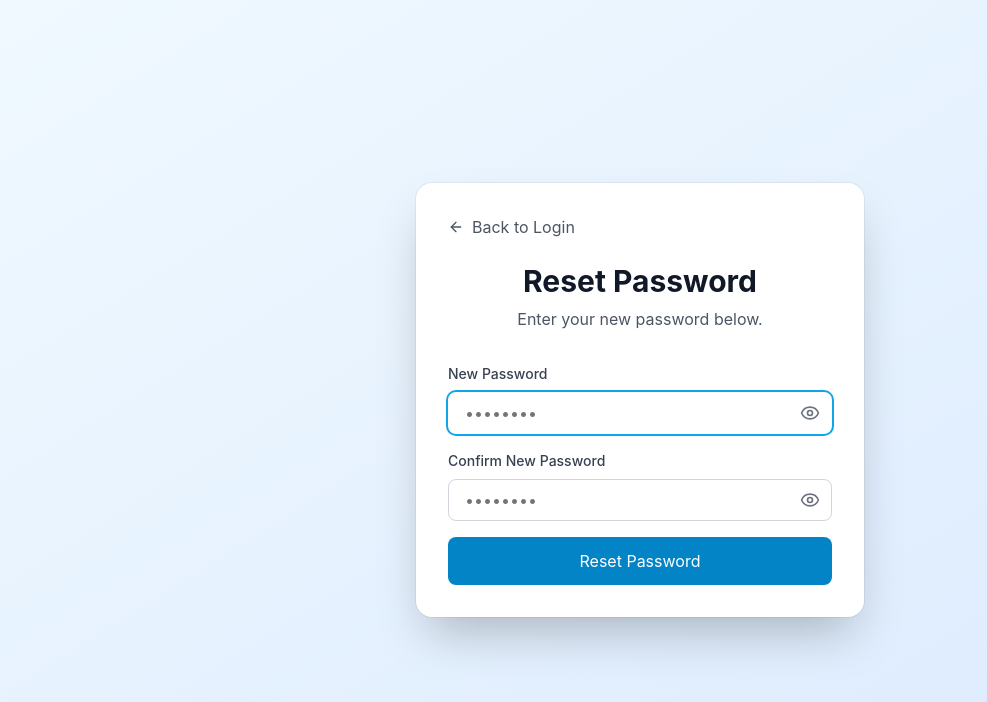
Test case: ResetPasswordPage › should handle API error
This screenshot has width=987, height=702.
Type "newpassword123" into the password field with placeholder "••••••••" at (640, 413), box [448, 392, 832, 434]
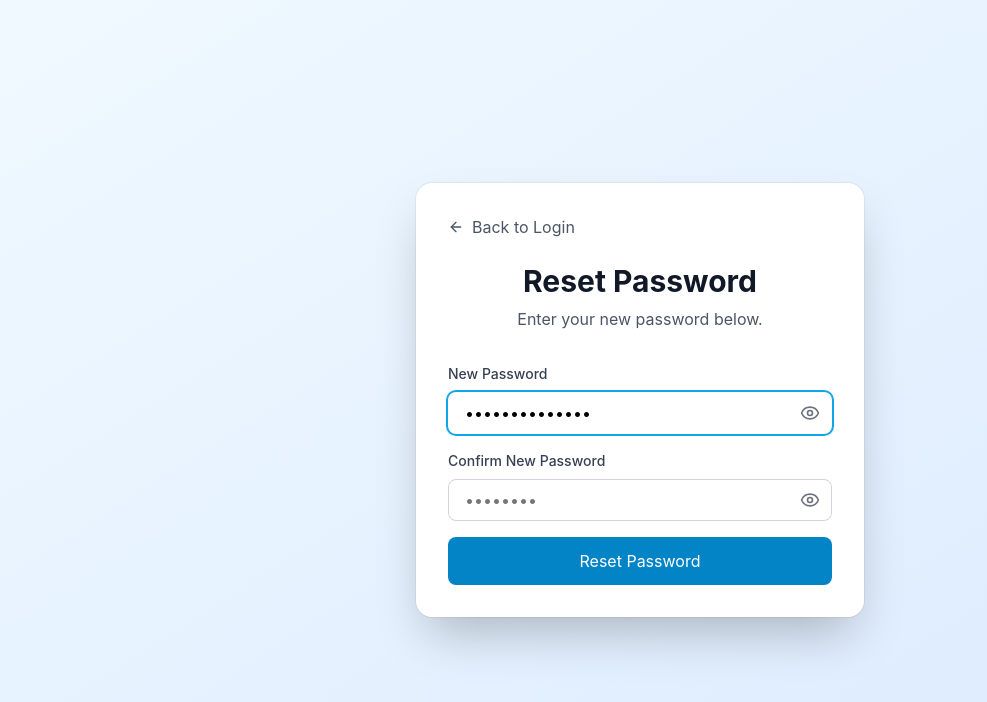
Type "newpassword123" into the password field with placeholder "••••••••" at (640, 500), box [448, 479, 832, 521]
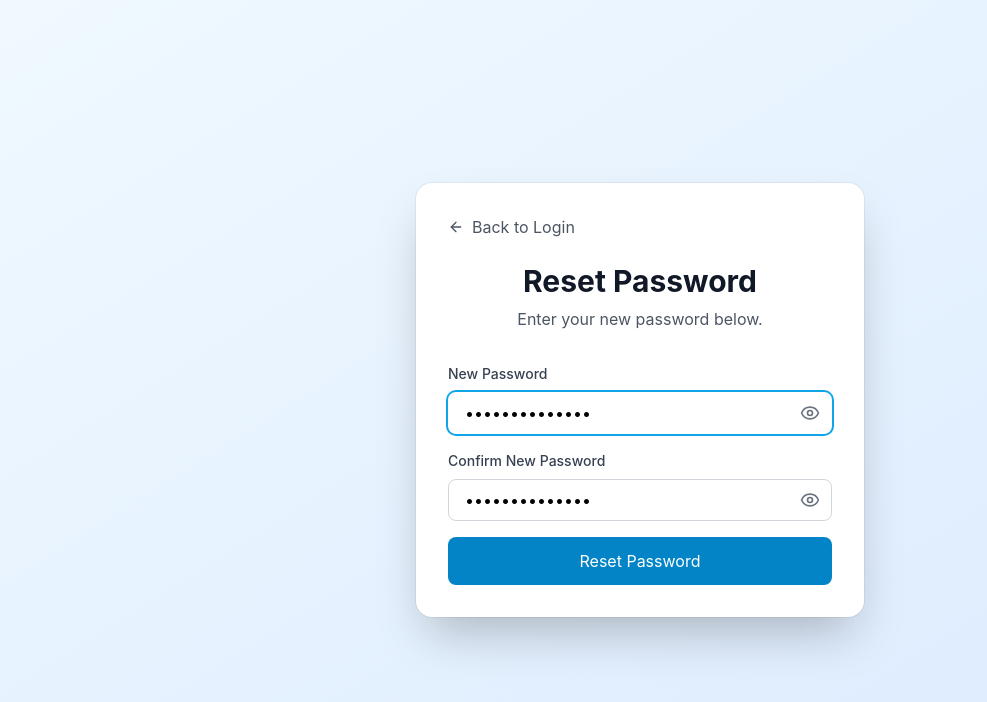
Click the button "Reset Password" at (640, 561), box [448, 537, 832, 585]
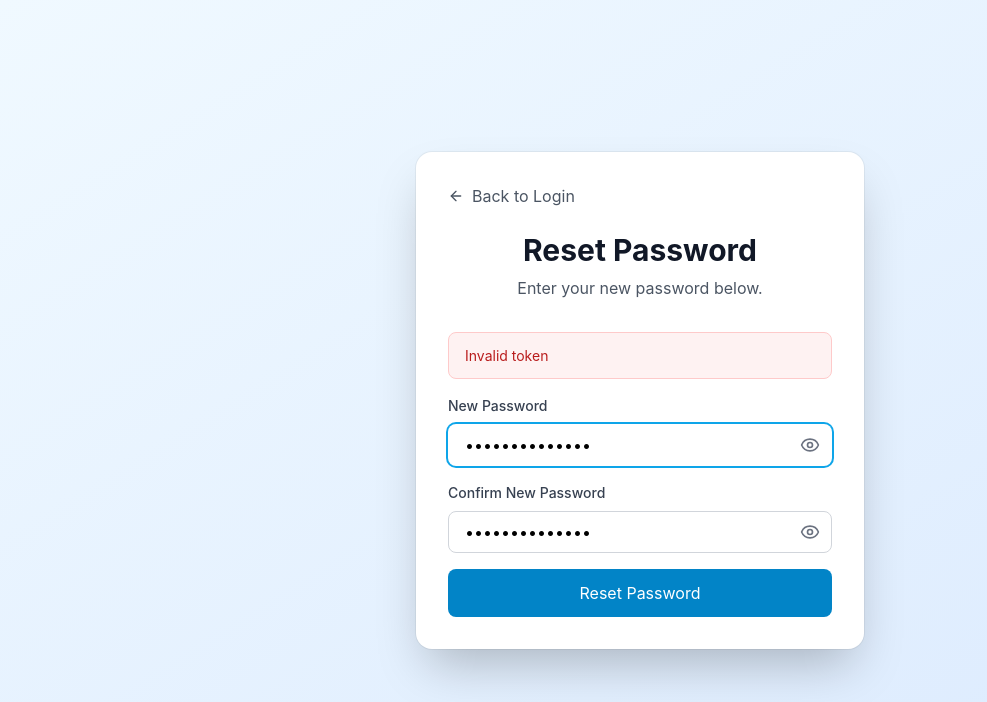
Expected: the text "Invalid token" is shown, [448, 332, 832, 378]
